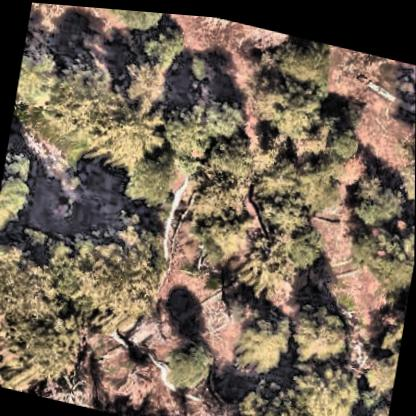tree-top: (51, 203, 180, 327), (0, 242, 99, 368), (153, 74, 251, 166), (226, 292, 303, 382), (281, 282, 358, 369), (250, 68, 329, 147), (350, 203, 415, 291), (255, 23, 339, 90), (294, 339, 367, 416), (180, 152, 252, 228), (116, 140, 189, 214), (152, 325, 222, 398), (341, 160, 411, 223), (111, 49, 179, 113), (51, 46, 114, 114), (132, 8, 195, 75), (226, 370, 307, 416), (257, 176, 319, 236), (276, 211, 333, 265), (0, 153, 33, 230), (324, 109, 370, 157)
